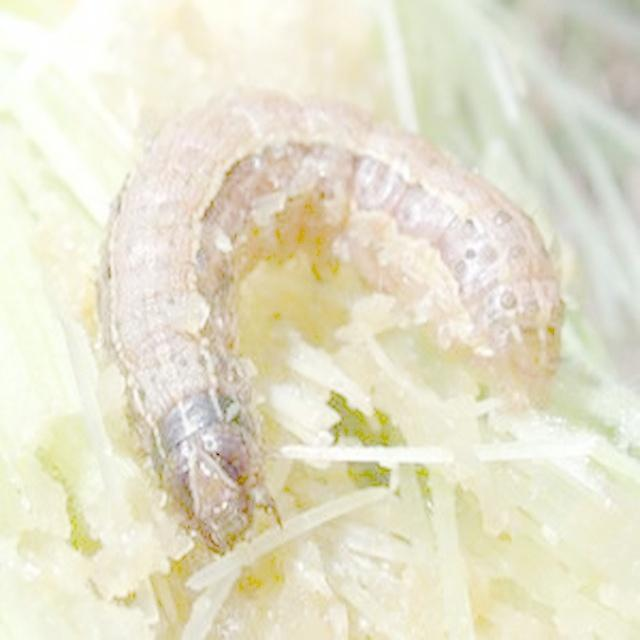gusano_cogollero: (98, 74, 566, 558)
